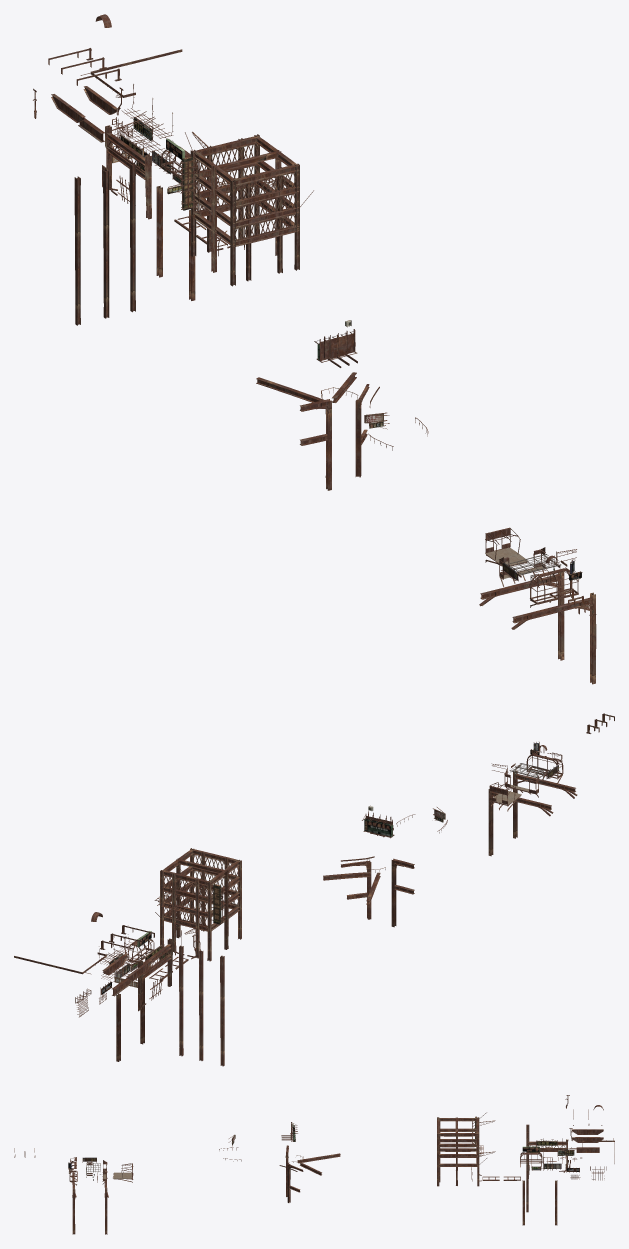
Rendered from SM_Tutorial_BLock_01.fbx.
3 renders of one model, top to bottom at view 1: azimuth 30°, elevation 25°; view 2: azimuth 150°, elevation 25°; view 3: azimuth 270°, elevation 25°, orthographic. The views are drawn at different scales.
Visible parts, largest first — view 1: SM_Tutorial_BLock_01, SM_ReeperBahn_00_Metal_00.011, SM_ReeperBahn_00_Metal_00.004; view 2: SM_Tutorial_BLock_01, SM_ReeperBahn_00_Metal_00.011, SM_ReeperBahn_00_Metal_00.004; view 3: SM_ReeperBahn_00_Metal_00.011, SM_Tutorial_BLock_01, SM_ReeperBahn_00_Metal_00.004.
Part boxes in pixels (bbox=[...]): SM_Tutorial_BLock_01: bbox=[174, 131, 313, 286]; SM_ReeperBahn_00_Metal_00.011: bbox=[33, 14, 197, 325]; SM_ReeperBahn_00_Metal_00.004: bbox=[256, 320, 596, 684]; SM_Tutorial_BLock_01: bbox=[149, 848, 241, 981]; SM_ReeperBahn_00_Metal_00.011: bbox=[14, 912, 224, 1066]; SM_ReeperBahn_00_Metal_00.004: bbox=[323, 713, 614, 927]; SM_ReeperBahn_00_Metal_00.011: bbox=[520, 1095, 614, 1225]; SM_Tutorial_BLock_01: bbox=[437, 1112, 520, 1186]; SM_ReeperBahn_00_Metal_00.004: bbox=[14, 1122, 340, 1234].
Size of the model in its own units: 5848 by 7247 by 28746.
